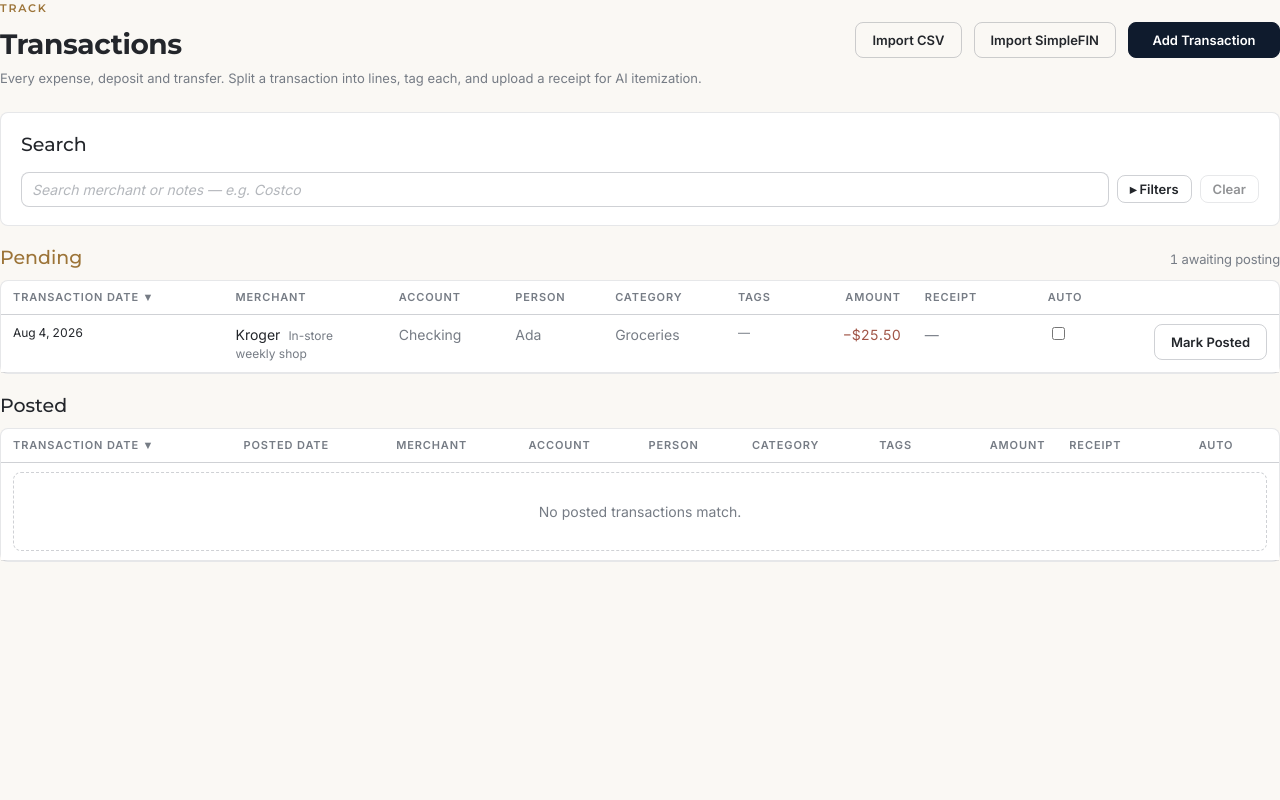
Test: Transactions page › surfaces a mark-posted failure
Click the button "Mark Posted" at {"x": 1210, "y": 342}, box [1154, 324, 1267, 360]
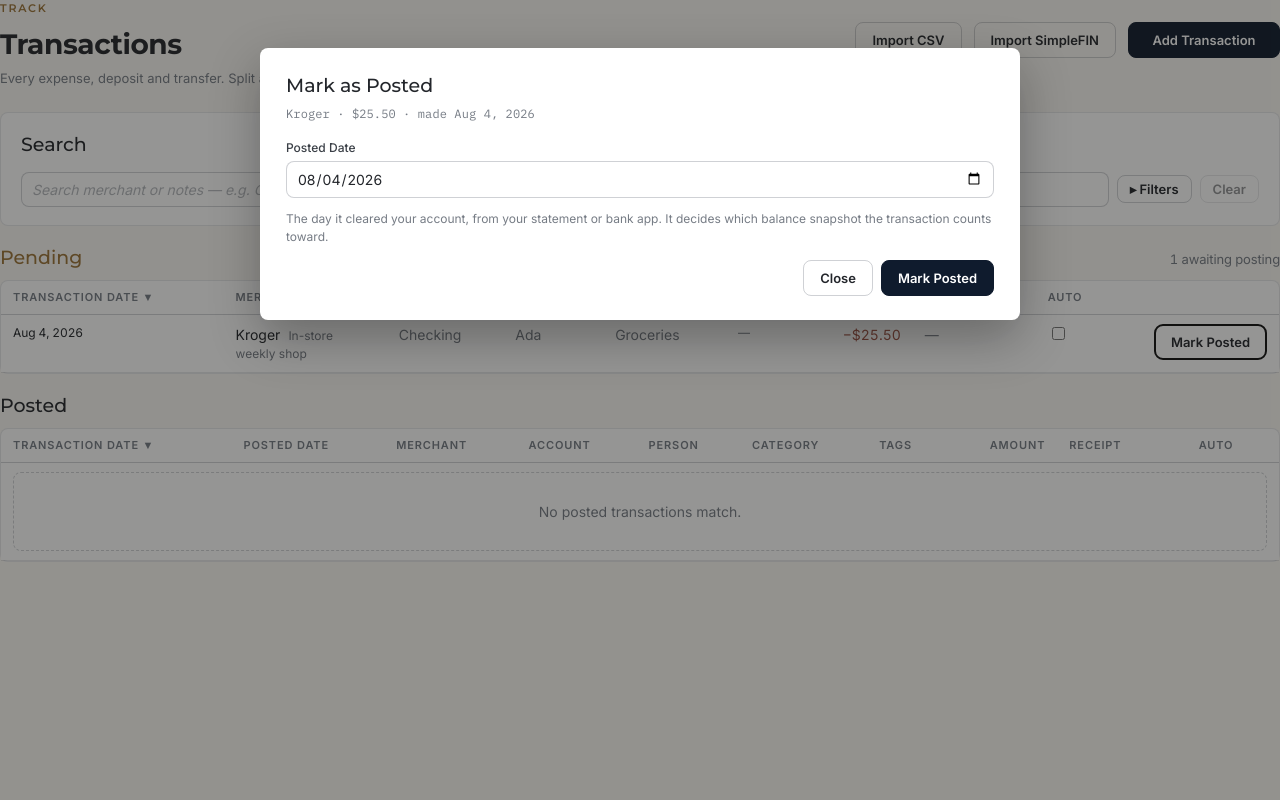
Click the button "Mark Posted" at {"x": 937, "y": 278}, box [881, 260, 994, 296]
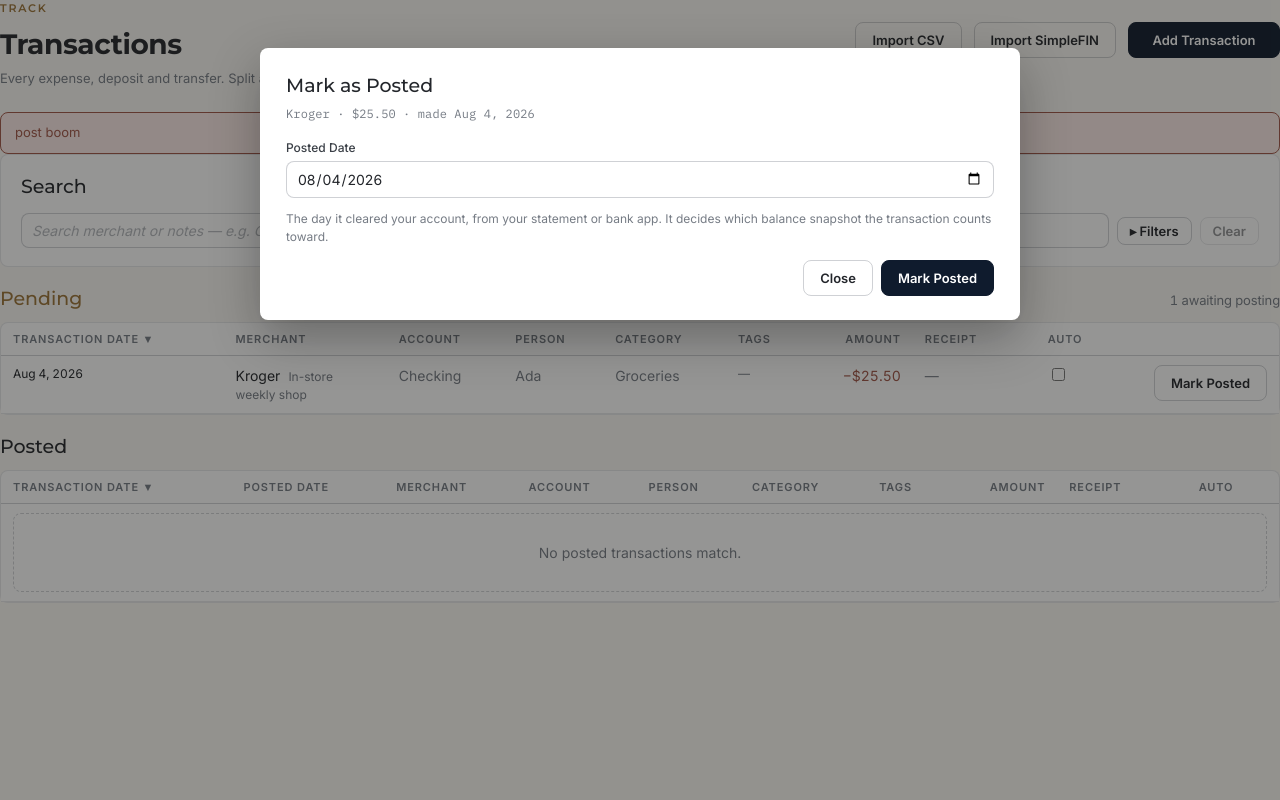
Expected: the text "post boom" is shown, [0, 112, 1279, 154]
